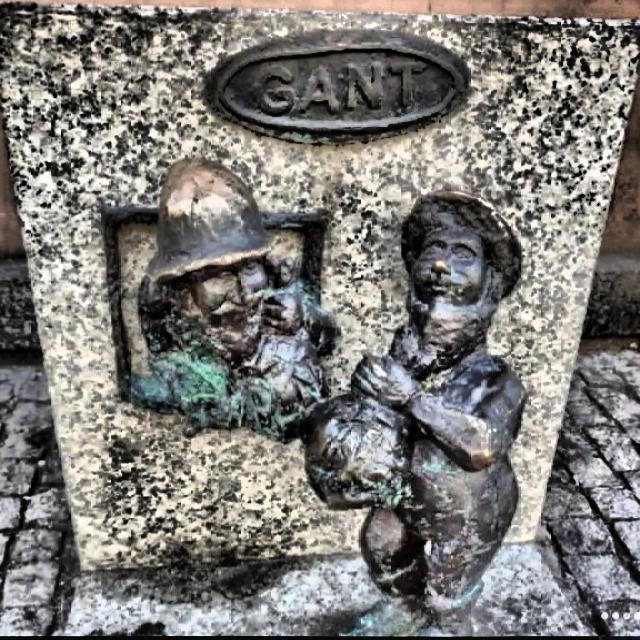Kantorki: (104, 159, 524, 634)
